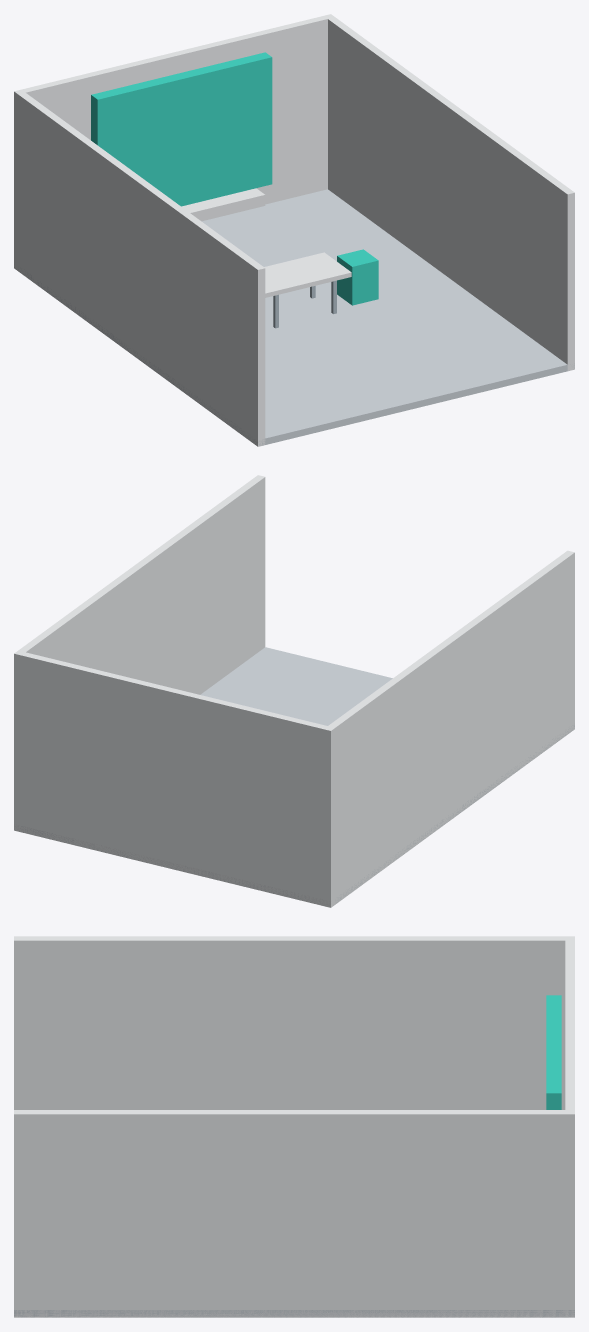
3 views of the same model, one above another, from view 1: azimuth 30°, elevation 25°; view 2: azimuth 150°, elevation 25°; view 3: azimuth 270°, elevation 25° (orthographic). The views are drawn at different scales.
Visible parts, largest first — view 1: Exhibition Booth Concept; view 2: Exhibition Booth Concept; view 3: Exhibition Booth Concept.
Boxes of the visible parts, x1,y1,x2,y2 form: Exhibition Booth Concept: [14, 14, 574, 446]; Exhibition Booth Concept: [14, 475, 574, 907]; Exhibition Booth Concept: [14, 936, 574, 1317].
Bounding box in the file's own units: 6 × 3.2 × 8.
